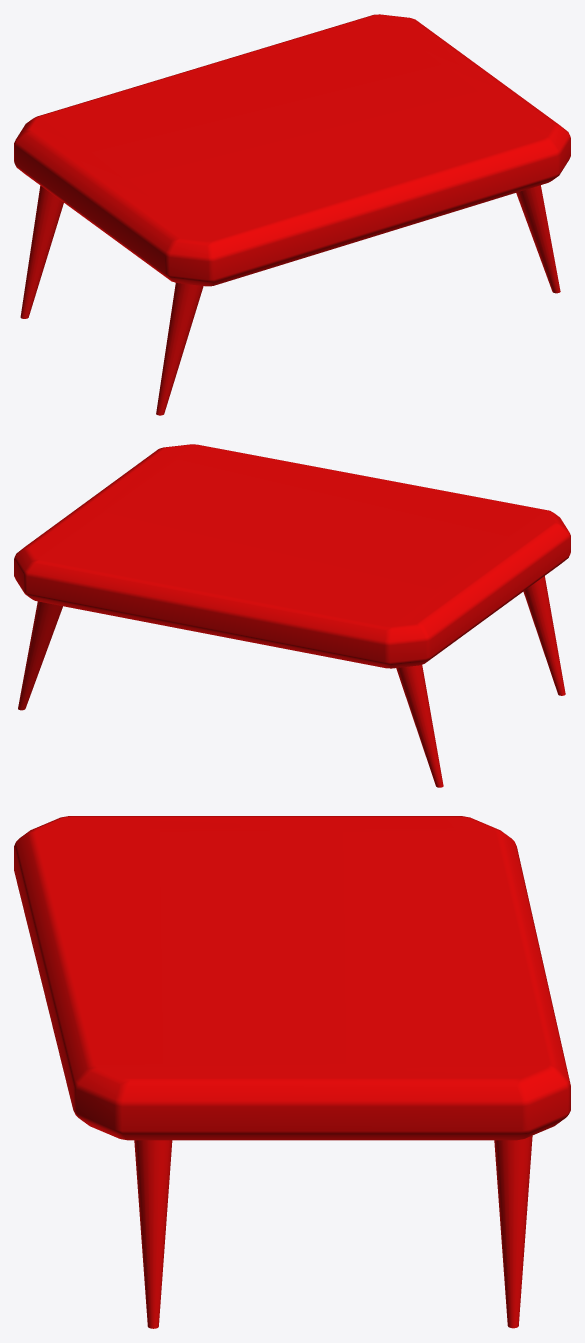
File: little_Table_msh.fbx
The picture shows the model from 3 angles, top to bottom: view 1: azimuth 30°, elevation 25°; view 2: azimuth 150°, elevation 25°; view 3: azimuth 270°, elevation 25°; orthographic projection. The views are drawn at different scales.
Visible parts, largest first — view 1: little_Table_msh1; view 2: little_Table_msh1; view 3: little_Table_msh1.
Boxes of the visible parts, box(x1,y1,x2,y2) form: little_Table_msh1: box(14, 14, 570, 415); little_Table_msh1: box(14, 444, 570, 787); little_Table_msh1: box(14, 816, 570, 1328).
Size of the model in its own units: 152 by 59.73 by 126.
